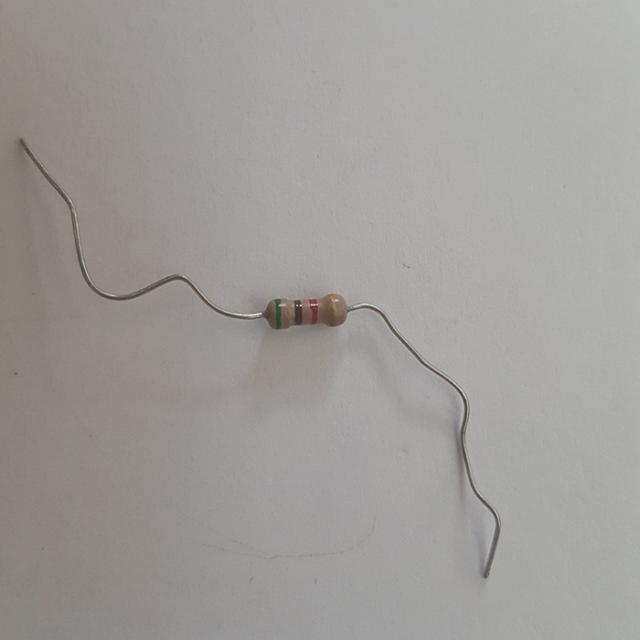brown: (293, 299, 304, 325)
gold: (329, 295, 338, 326)
green: (276, 300, 281, 327)
red: (311, 301, 318, 321)
resistor: (259, 287, 353, 338)
